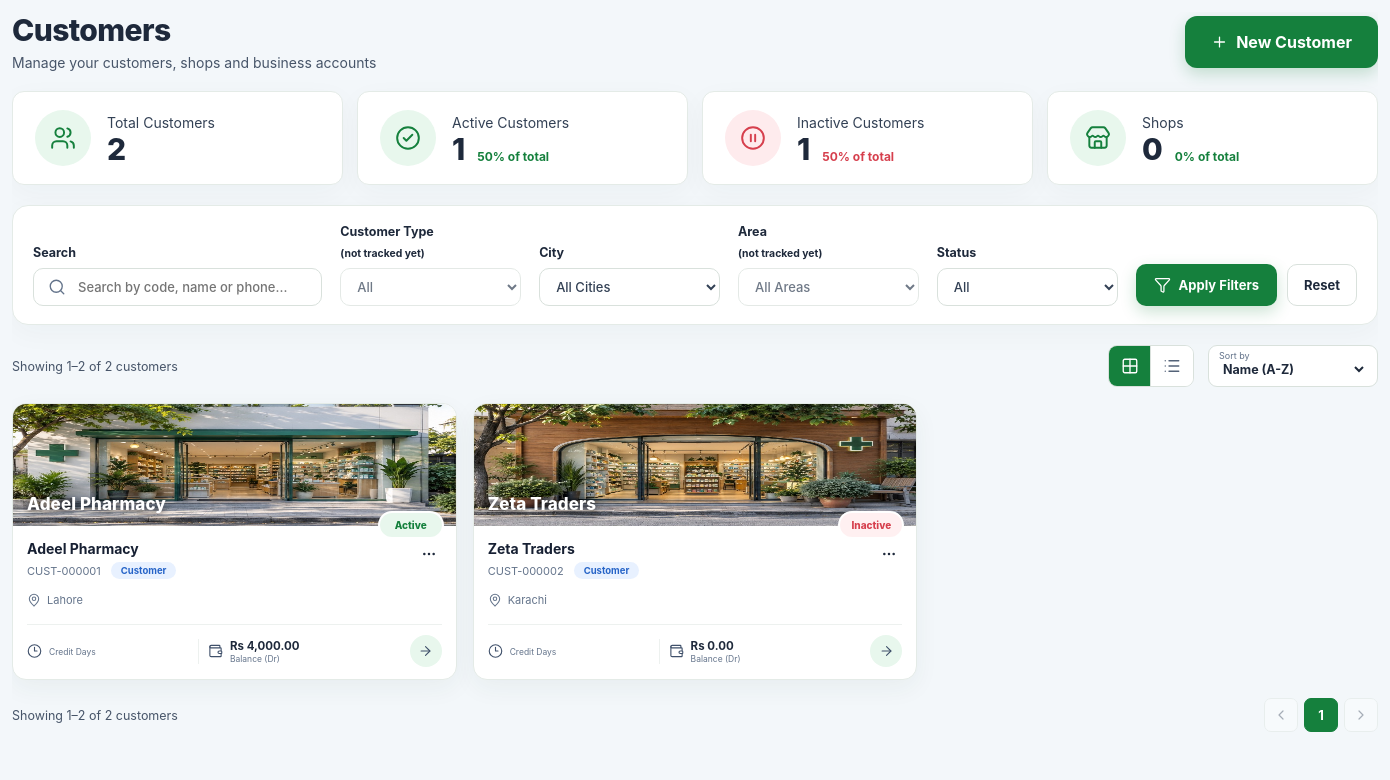
Scenario: PartyList (Customer) — real API › lists real customers, with the server balance shown Dr/Cr in the list view
The width and height of the screenshot is (1390, 780).
Expected: the heading "Adeel Pharmacy" is shown, [27, 540, 139, 557]
Expected: the heading "Zeta Traders" is shown, [488, 540, 575, 557]
Note: Switch to the list view to see CustomerTable's columns (the default is the card grid).
Click the button named "List view" at (1172, 366), box [1151, 346, 1193, 386]
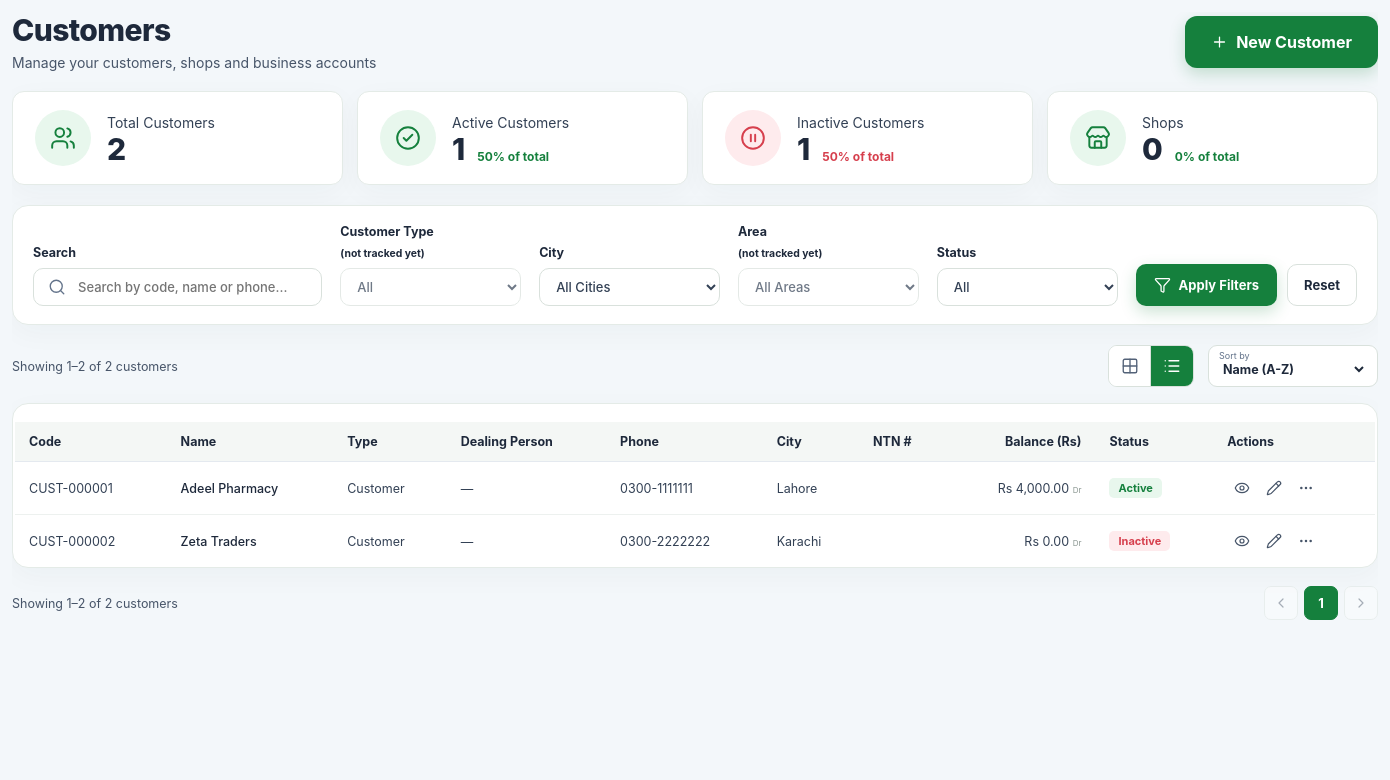
Expected: the text "Dr" next to "Rs 4,000.00" is shown, [1073, 484, 1082, 494]
Result: the text "Rs 4,000.00" is shown at [998, 480, 1069, 496]
